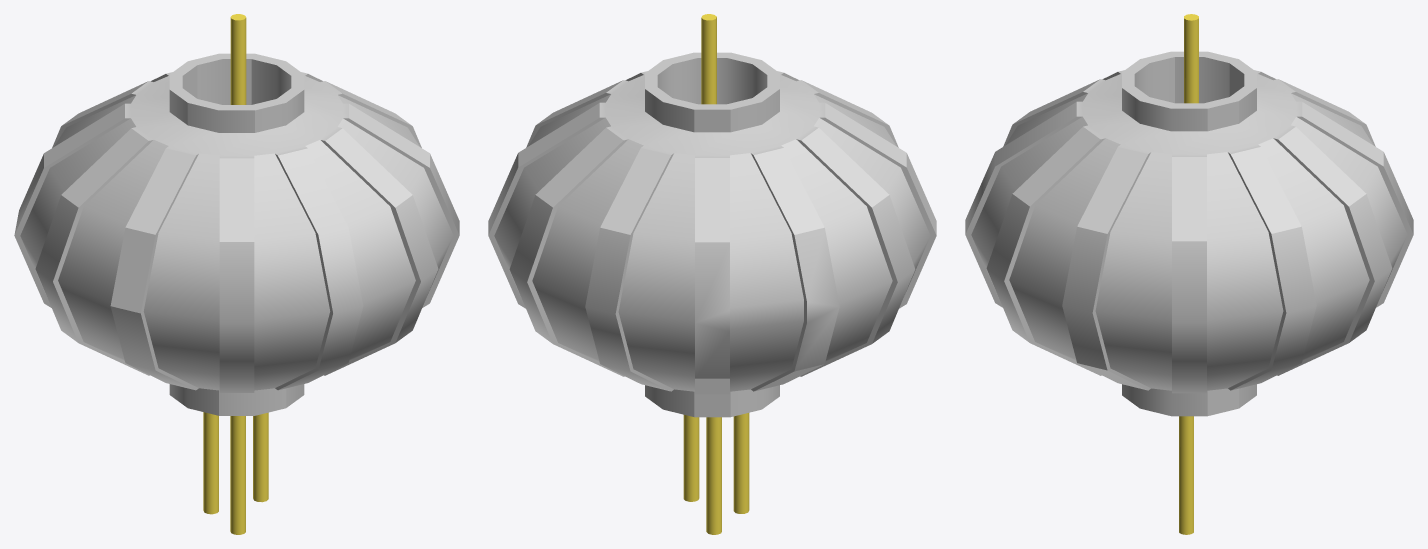
Rendered from lanturn.fbx.
3 renders of one model, left to right at view 1: azimuth 30°, elevation 25°; view 2: azimuth 150°, elevation 25°; view 3: azimuth 270°, elevation 25°, orthographic.
Parts seen in each view (by area): view 1: Sphere001, Cylinder008, Cylinder010, Cylinder011, Cylinder009; view 2: Sphere001, Cylinder008, Cylinder010, Cylinder009, Cylinder011; view 3: Sphere001, Cylinder009, Cylinder011.
Boxes of the visible parts, box(x1,y1,x2,y2) form: Sphere001: box(14, 53, 459, 415); Cylinder008: box(230, 416, 245, 534); Cylinder010: box(203, 412, 218, 514); Cylinder011: box(230, 14, 246, 104); Cylinder009: box(253, 412, 268, 502); Sphere001: box(488, 52, 936, 417); Cylinder008: box(706, 417, 721, 534); Cylinder010: box(733, 413, 749, 513); Cylinder009: box(683, 415, 699, 501); Cylinder011: box(701, 14, 716, 104); Sphere001: box(965, 51, 1413, 416); Cylinder009: box(1179, 416, 1193, 518); Cylinder011: box(1184, 14, 1198, 103).
Bounding box in the file's own units: 7.23 × 9.17 × 7.23.
